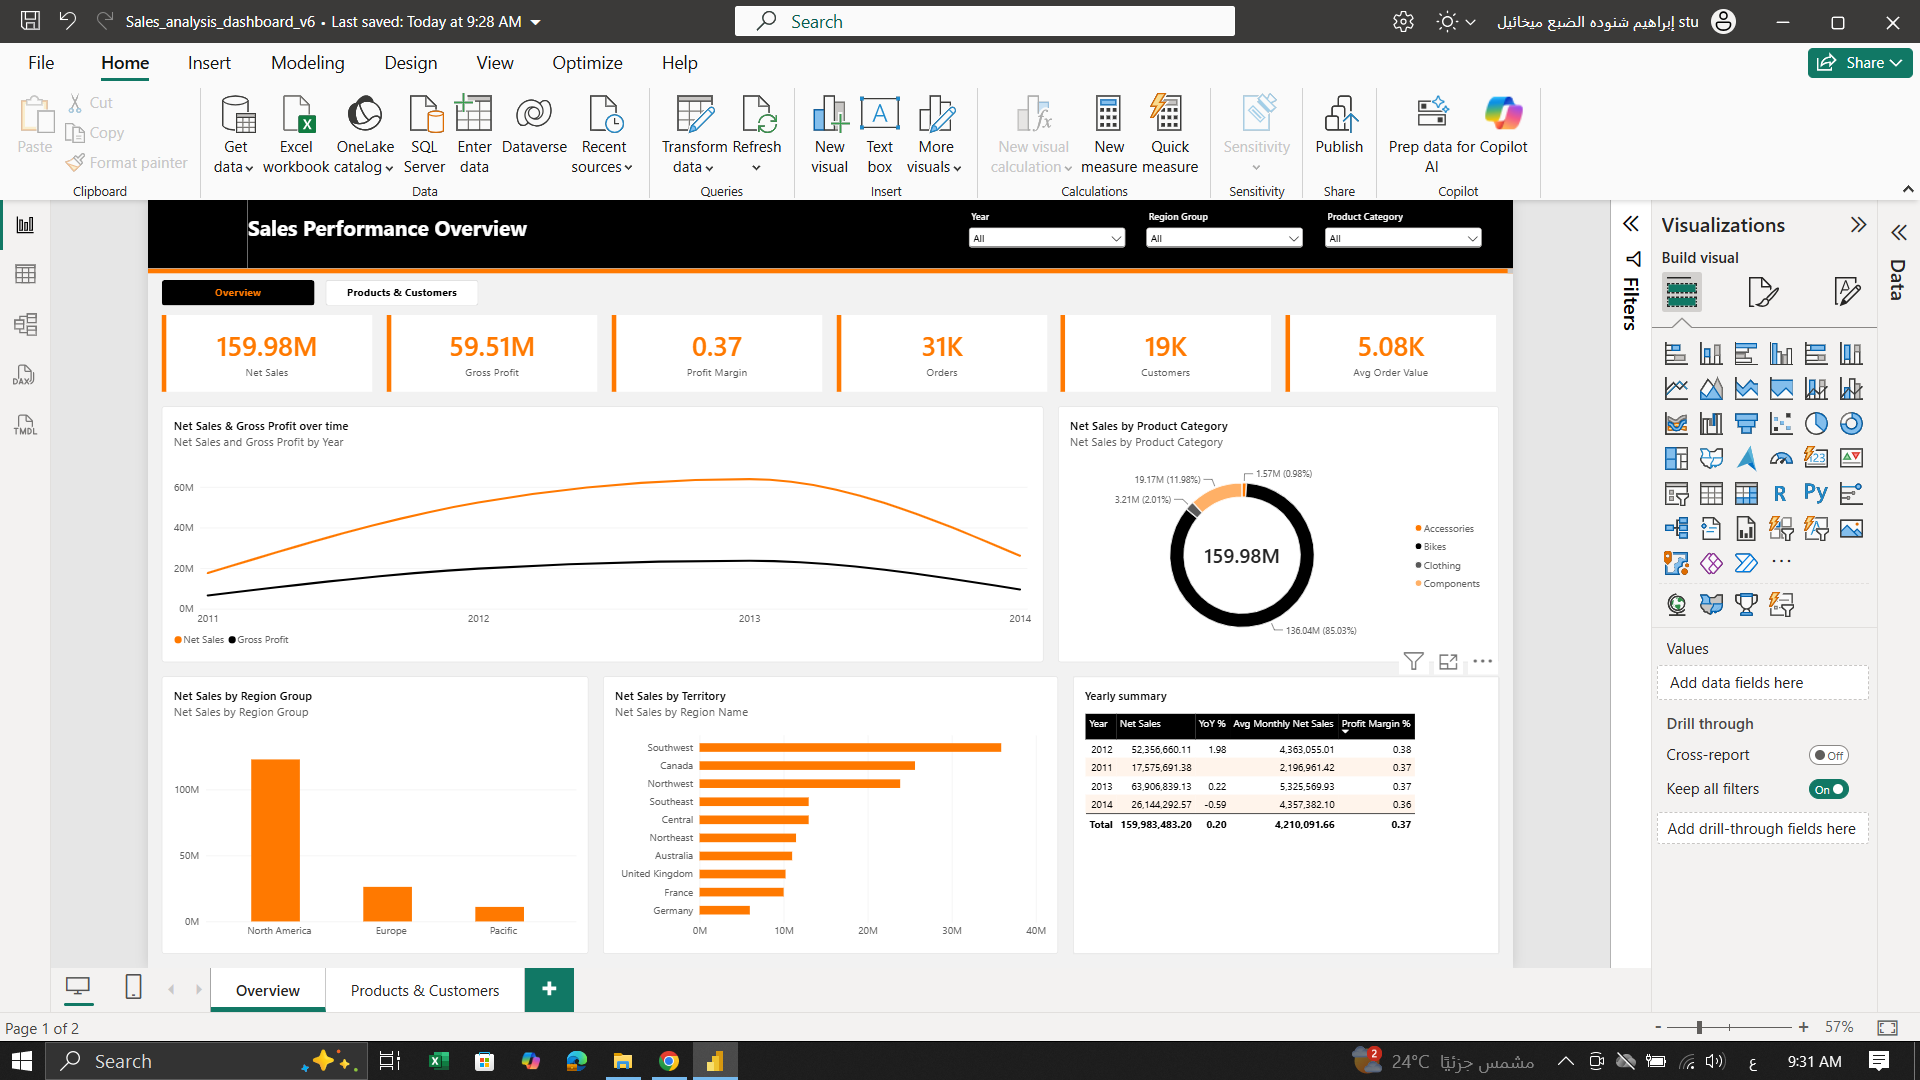

Layout of this report page (visuals, bound fields, positions):
{"tool":"powerbi","page":{"name":"Overview","canvas":[1920,1080],"ordinal":0},"visuals":[{"type":"textbox","box":[140,0,1780,96],"z":1000},{"type":"textbox","box":[0,0,140,96],"z":2000},{"type":"textbox","box":[0,96,1920,6],"z":3000},{"type":"slicer","fields":{"Values":["Fact_Sales.OrderDate.Variation.Date Hierarchy.Year"]},"box":[1150,14,230,70],"z":4000},{"type":"slicer","fields":{"Values":["Dim_Region.Region Group"]},"box":[1400,14,230,70],"z":5000},{"type":"slicer","fields":{"Values":["Dim_Products.Product Category"]},"box":[1650,14,230,70],"z":6000},{"type":"actionButton","box":[20,112,215,36],"z":7000},{"type":"actionButton","box":[250,112,215,36],"z":8000},{"type":"card","fields":{"Values":["Measures_Table.Net Sales"]},"box":[20,162,296,108],"z":9000},{"type":"textbox","box":[20,162,6,108],"z":10000},{"type":"card","fields":{"Values":["Measures_Table.Gross Profit"]},"box":[336,162,296,108],"z":11000},{"type":"textbox","box":[336,162,6,108],"z":12000},{"type":"card","fields":{"Values":["Measures_Table.Profit Margin %"]},"box":[652,162,296,108],"z":13000},{"type":"textbox","box":[652,162,6,108],"z":14000},{"type":"card","fields":{"Values":["Measures_Table.Total Orders"]},"box":[968,162,296,108],"z":15000},{"type":"textbox","box":[968,162,6,108],"z":16000},{"type":"card","fields":{"Values":["Measures_Table.Active Customers"]},"box":[1284,162,296,108],"z":17000},{"type":"textbox","box":[1284,162,6,108],"z":18000},{"type":"card","fields":{"Values":["Measures_Table.Avg Order Value"]},"box":[1600,162,296,108],"z":19000},{"type":"textbox","box":[1600,162,6,108],"z":20000},{"type":"lineChart","title":"Net Sales & Gross Profit over time","fields":{"Category":["Fact_Sales.OrderDate.Variation.Date Hierarchy.Year","Fact_Sales.OrderDate.Variation.Date Hierarchy.Month"],"Y":["Measures_Table.Net Sales","Measures_Table.Gross Profit"]},"box":[20,290,1240,360],"z":21000},{"type":"donutChart","title":"Net Sales by Product Category","fields":{"Category":["Dim_Products.Product Category"],"Y":["Measures_Table.Net Sales"]},"box":[1280,290,620,360],"z":22000},{"type":"clusteredColumnChart","title":"Net Sales by Region Group","fields":{"Category":["Dim_Region.Region Group"],"Y":["Measures_Table.Net Sales"]},"box":[20,670,600,390],"z":23000},{"type":"clusteredBarChart","title":"Net Sales by Territory","fields":{"Category":["Dim_Region.Region Name"],"Y":["Measures_Table.Net Sales"]},"box":[640,670,640,390],"z":24000},{"type":"tableEx","title":"Yearly summary","fields":{"Values":["Fact_Sales.OrderDate.Variation.Date Hierarchy.Year","Measures_Table.Net Sales","Measures_Table.YoY %","Measures_Table.Avg Monthly Net Sales","Measures_Table.Profit Margin %"]},"box":[1300,670,600,390],"z":25000}]}

Visuals, with their boxes on the page's 1920x1080 design canvas (x1, y1, x2, y2). These are canvas units, not pixel positions in the 1920x1080 screenshot, which may show the page scaled, cropped or inside an application window:
textbox: {"x1": 140, "y1": 0, "x2": 1920, "y2": 96}
textbox: {"x1": 0, "y1": 0, "x2": 140, "y2": 96}
textbox: {"x1": 0, "y1": 96, "x2": 1920, "y2": 102}
slicer - Fact_Sales.OrderDate.Variation.Date Hierarchy.Year: {"x1": 1150, "y1": 14, "x2": 1380, "y2": 84}
slicer - Dim_Region.Region Group: {"x1": 1400, "y1": 14, "x2": 1630, "y2": 84}
slicer - Dim_Products.Product Category: {"x1": 1650, "y1": 14, "x2": 1880, "y2": 84}
actionButton: {"x1": 20, "y1": 112, "x2": 235, "y2": 148}
actionButton: {"x1": 250, "y1": 112, "x2": 465, "y2": 148}
card - Measures_Table.Net Sales: {"x1": 20, "y1": 162, "x2": 316, "y2": 270}
textbox: {"x1": 20, "y1": 162, "x2": 26, "y2": 270}
card - Measures_Table.Gross Profit: {"x1": 336, "y1": 162, "x2": 632, "y2": 270}
textbox: {"x1": 336, "y1": 162, "x2": 342, "y2": 270}
card - Measures_Table.Profit Margin %: {"x1": 652, "y1": 162, "x2": 948, "y2": 270}
textbox: {"x1": 652, "y1": 162, "x2": 658, "y2": 270}
card - Measures_Table.Total Orders: {"x1": 968, "y1": 162, "x2": 1264, "y2": 270}
textbox: {"x1": 968, "y1": 162, "x2": 974, "y2": 270}
card - Measures_Table.Active Customers: {"x1": 1284, "y1": 162, "x2": 1580, "y2": 270}
textbox: {"x1": 1284, "y1": 162, "x2": 1290, "y2": 270}
card - Measures_Table.Avg Order Value: {"x1": 1600, "y1": 162, "x2": 1896, "y2": 270}
textbox: {"x1": 1600, "y1": 162, "x2": 1606, "y2": 270}
"Net Sales & Gross Profit over time" lineChart: {"x1": 20, "y1": 290, "x2": 1260, "y2": 650}
"Net Sales by Product Category" donutChart: {"x1": 1280, "y1": 290, "x2": 1900, "y2": 650}
"Net Sales by Region Group" clusteredColumnChart: {"x1": 20, "y1": 670, "x2": 620, "y2": 1060}
"Net Sales by Territory" clusteredBarChart: {"x1": 640, "y1": 670, "x2": 1280, "y2": 1060}
"Yearly summary" tableEx: {"x1": 1300, "y1": 670, "x2": 1900, "y2": 1060}
